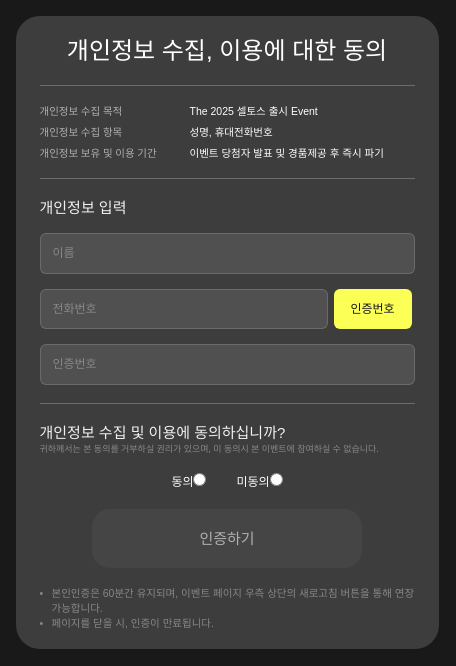
Test: AuthModal 인증 관련 테스트 › 전화번호를 누르고 인증번호 버튼을 누르면 인증 번호 옆에 타이머가 나타나야 한다.
Type "강준우" into the field with placeholder "이름" at [227, 253], box [40,233,414,274]
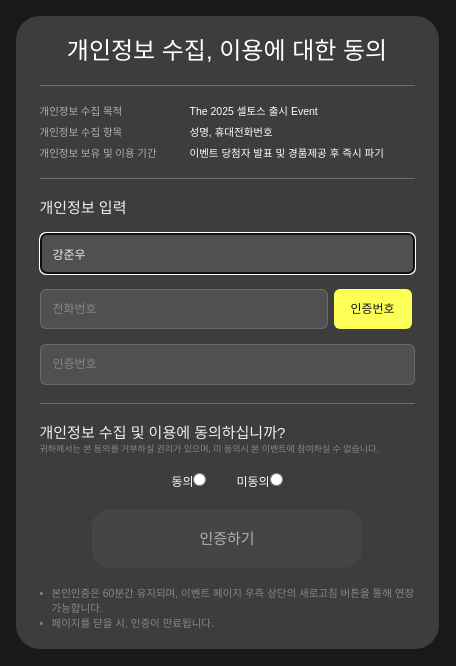
Type "01011111111" into the field with placeholder "전화번호" at [184, 309], box [40,289,328,329]
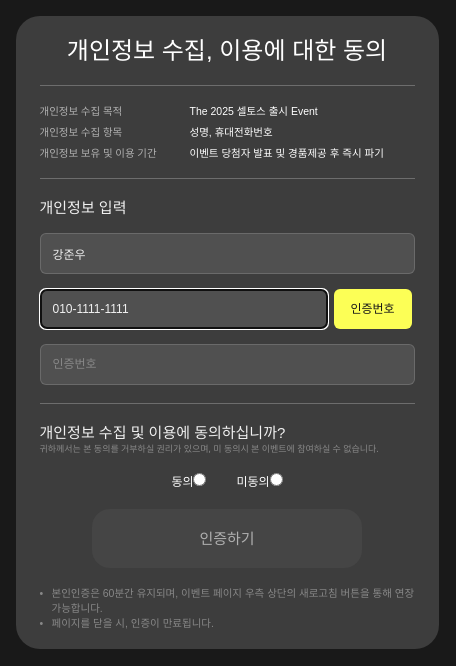
Click the button "인증번호" at [372, 309], box [334,289,412,329]
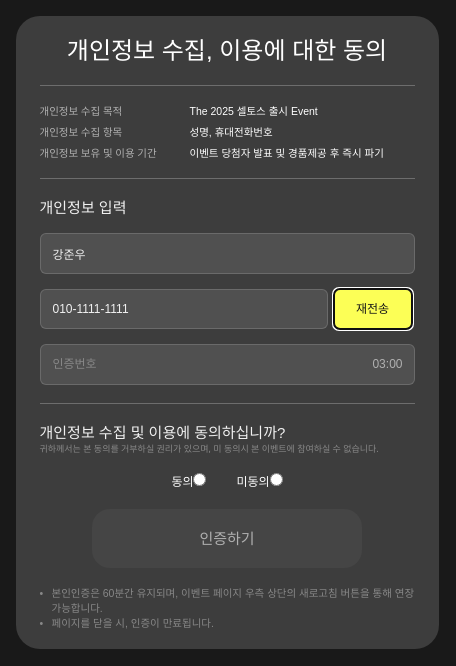
Expected: the text "03:00" is shown, [372,356,402,373]
